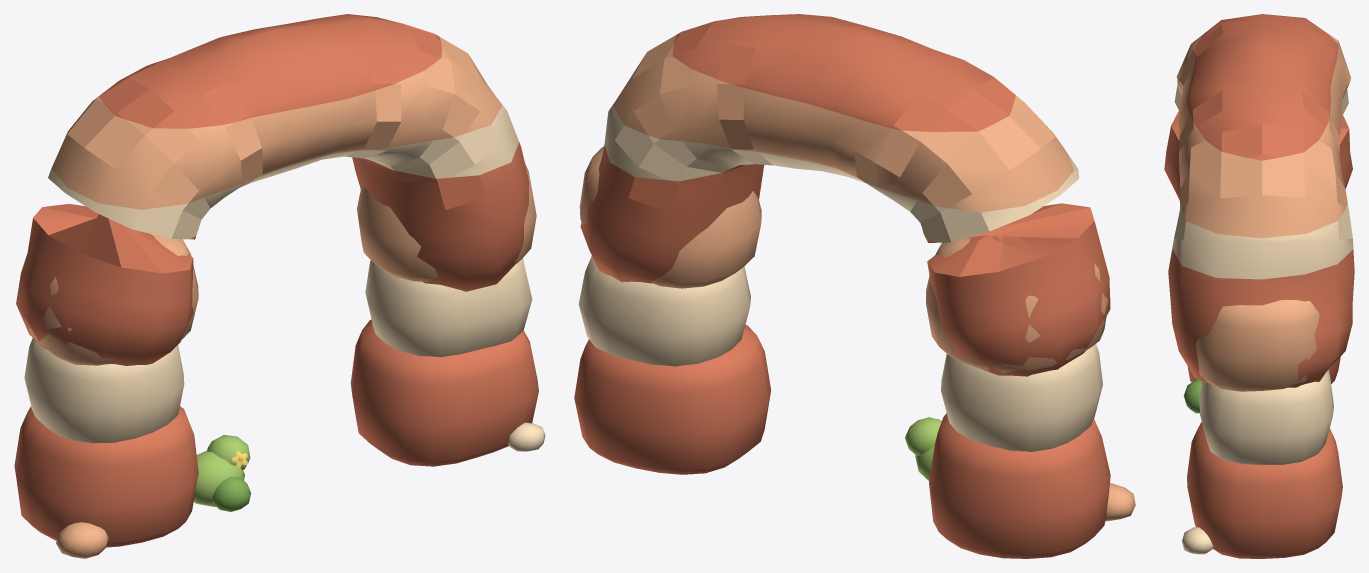
The model's file is prop_rock_arch.glb.
The picture shows the model from 3 angles, left to right: view 1: azimuth 30°, elevation 25°; view 2: azimuth 150°, elevation 25°; view 3: azimuth 270°, elevation 25°; orthographic projection. The views are drawn at different scales.
Parts seen in each view (by area): view 1: prop_rock_arch; view 2: prop_rock_arch; view 3: prop_rock_arch.
Boxes of the visible parts, box(x1,y1,x2,y2) form: prop_rock_arch: box(14, 14, 545, 558); prop_rock_arch: box(574, 14, 1135, 558); prop_rock_arch: box(1164, 14, 1354, 558).
Bounding box in the file's own units: 3 × 2.57 × 1.08.
